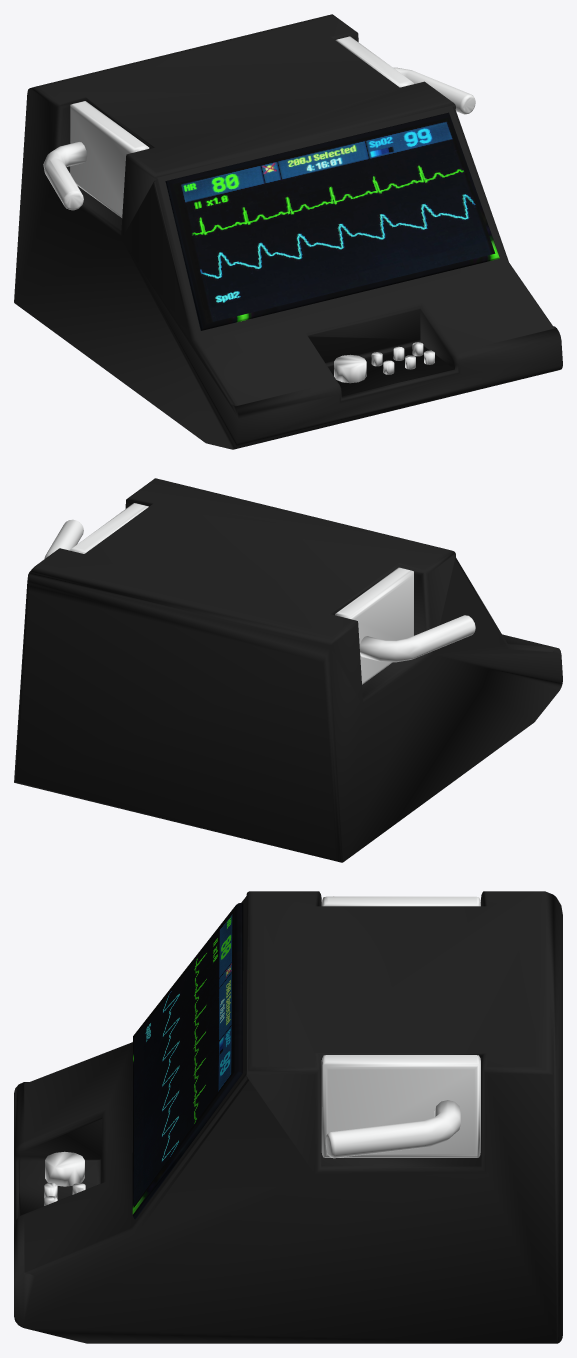
3 views of the same model, one above another, from view 1: azimuth 30°, elevation 25°; view 2: azimuth 150°, elevation 25°; view 3: azimuth 270°, elevation 25° (orthographic). The views are drawn at different scales.
Parts seen in each view (by area): view 1: EM-98; view 2: EM-98; view 3: EM-98.
Boxes of the visible parts, box(x1,y1,x2,y2) form: EM-98: box(14, 14, 562, 449); EM-98: box(14, 478, 562, 862); EM-98: box(14, 891, 562, 1343).
Size of the model in its own units: 36.86 by 18.57 by 34.7.
Materials: 3 (1 with a texture image).
